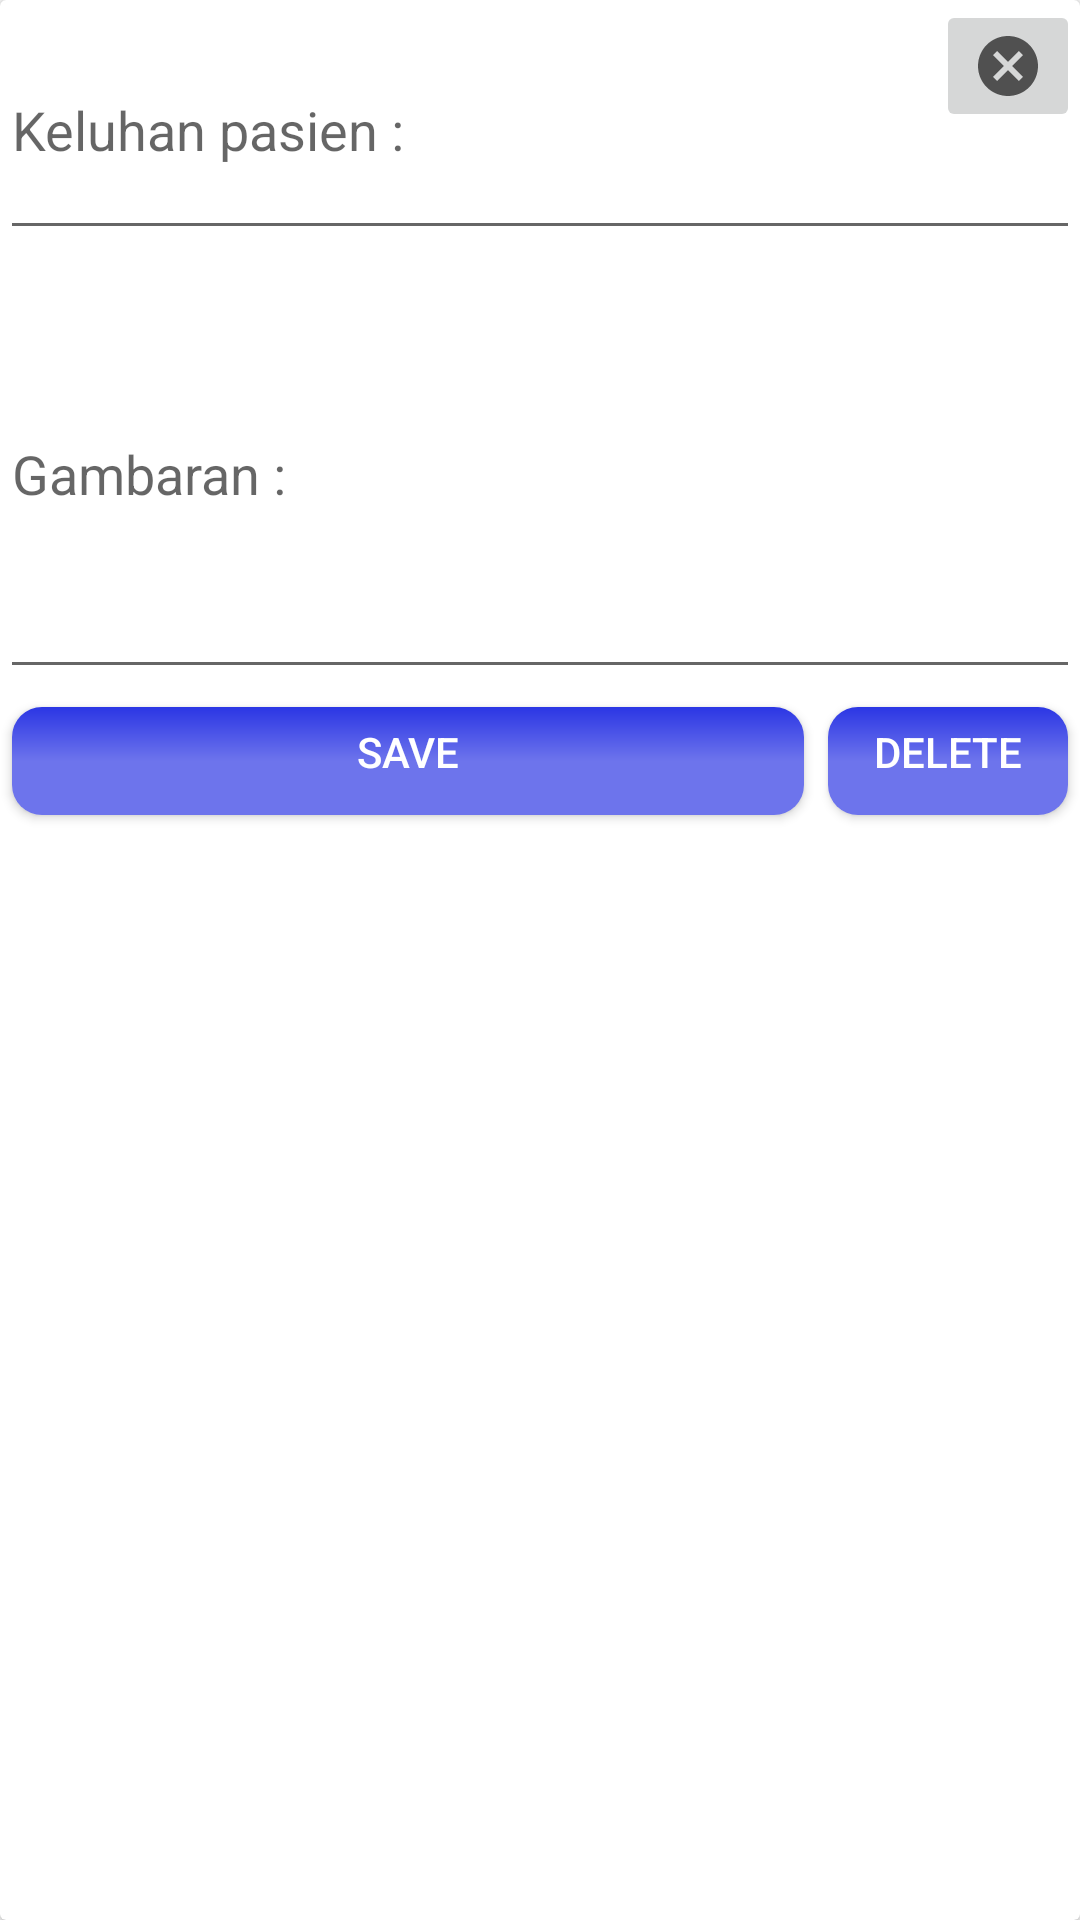

Where to tap for icons on this 1080*1920 app screen, as [x,y]:
cancel: [1014,57]
